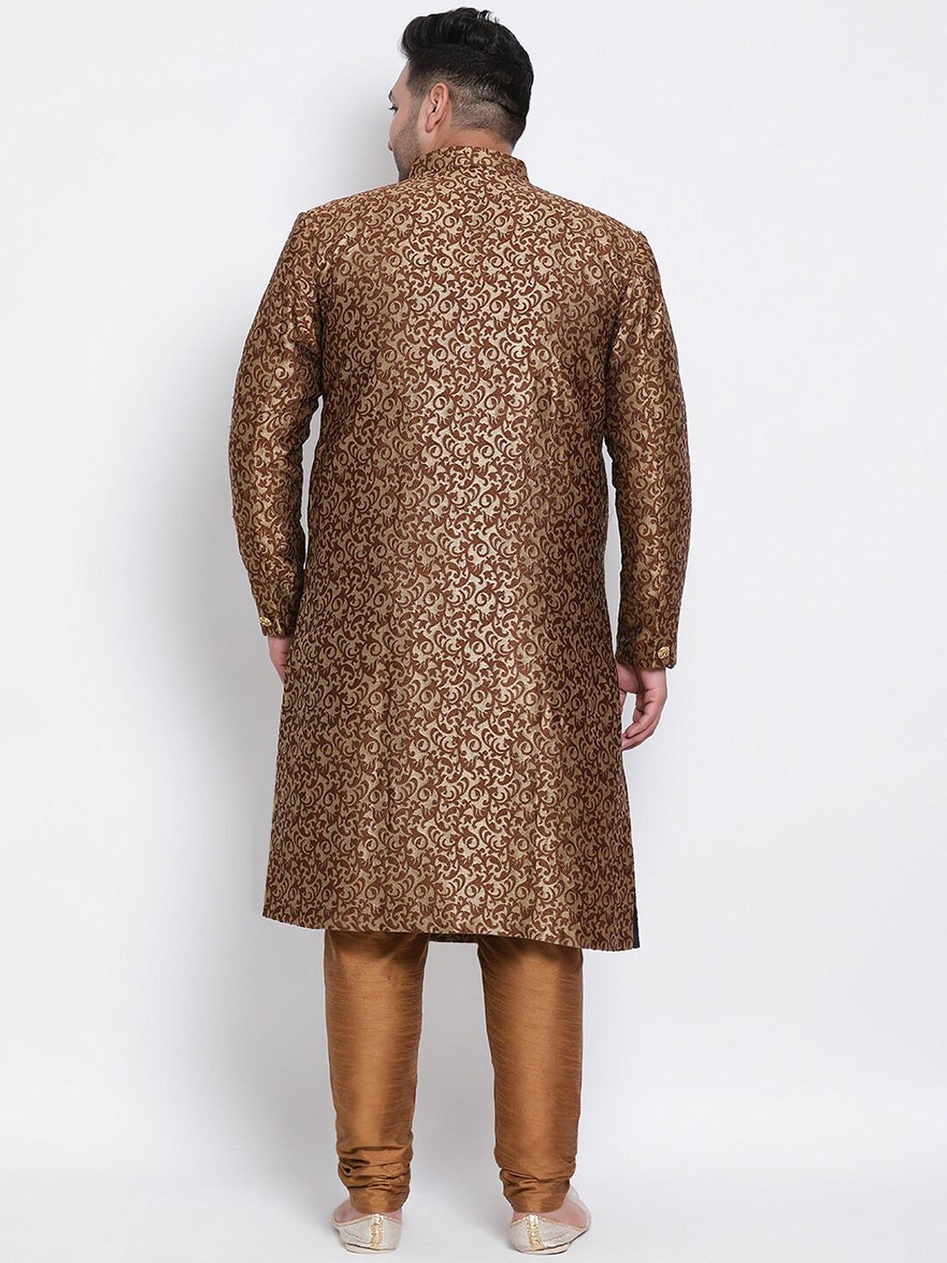Design Sherwani: (223, 145, 695, 954)
